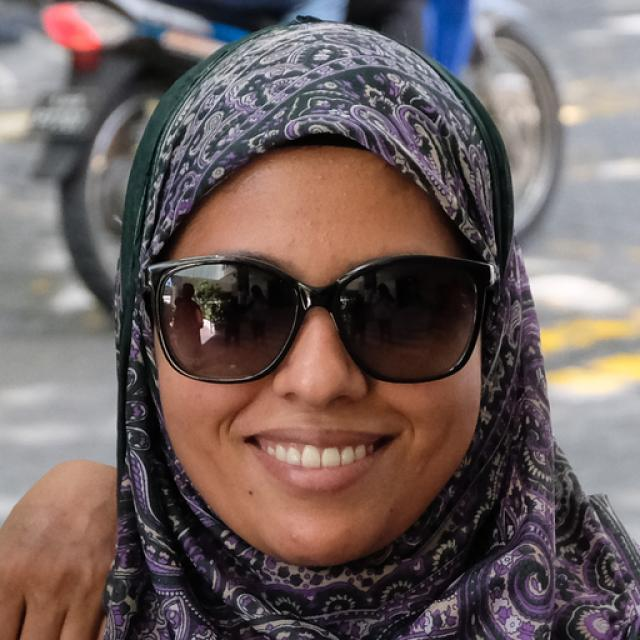happy: (158, 150, 482, 562)
